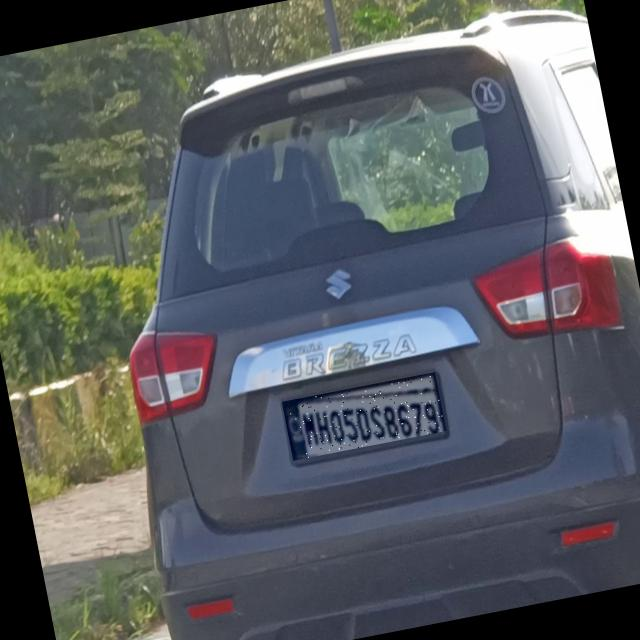Plate: (283, 373, 448, 462)
